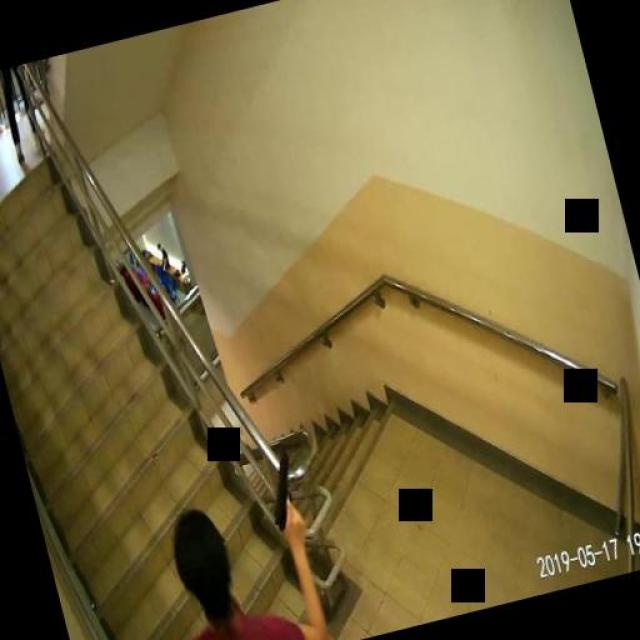gun: (258, 448, 306, 540)
